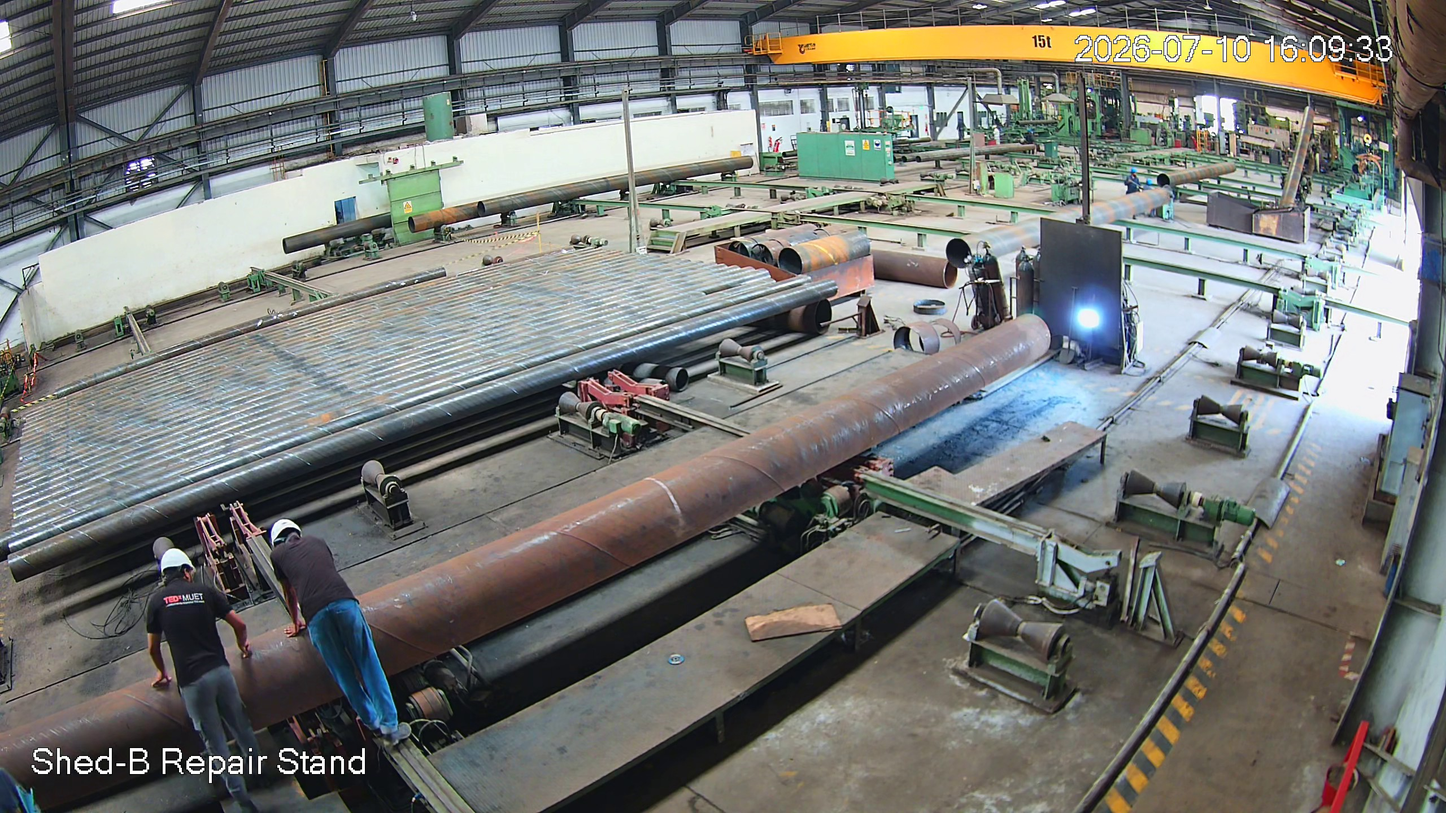Helmet: (262, 509, 323, 586), (149, 541, 215, 602)
Person: (266, 514, 420, 761), (140, 550, 270, 808)
